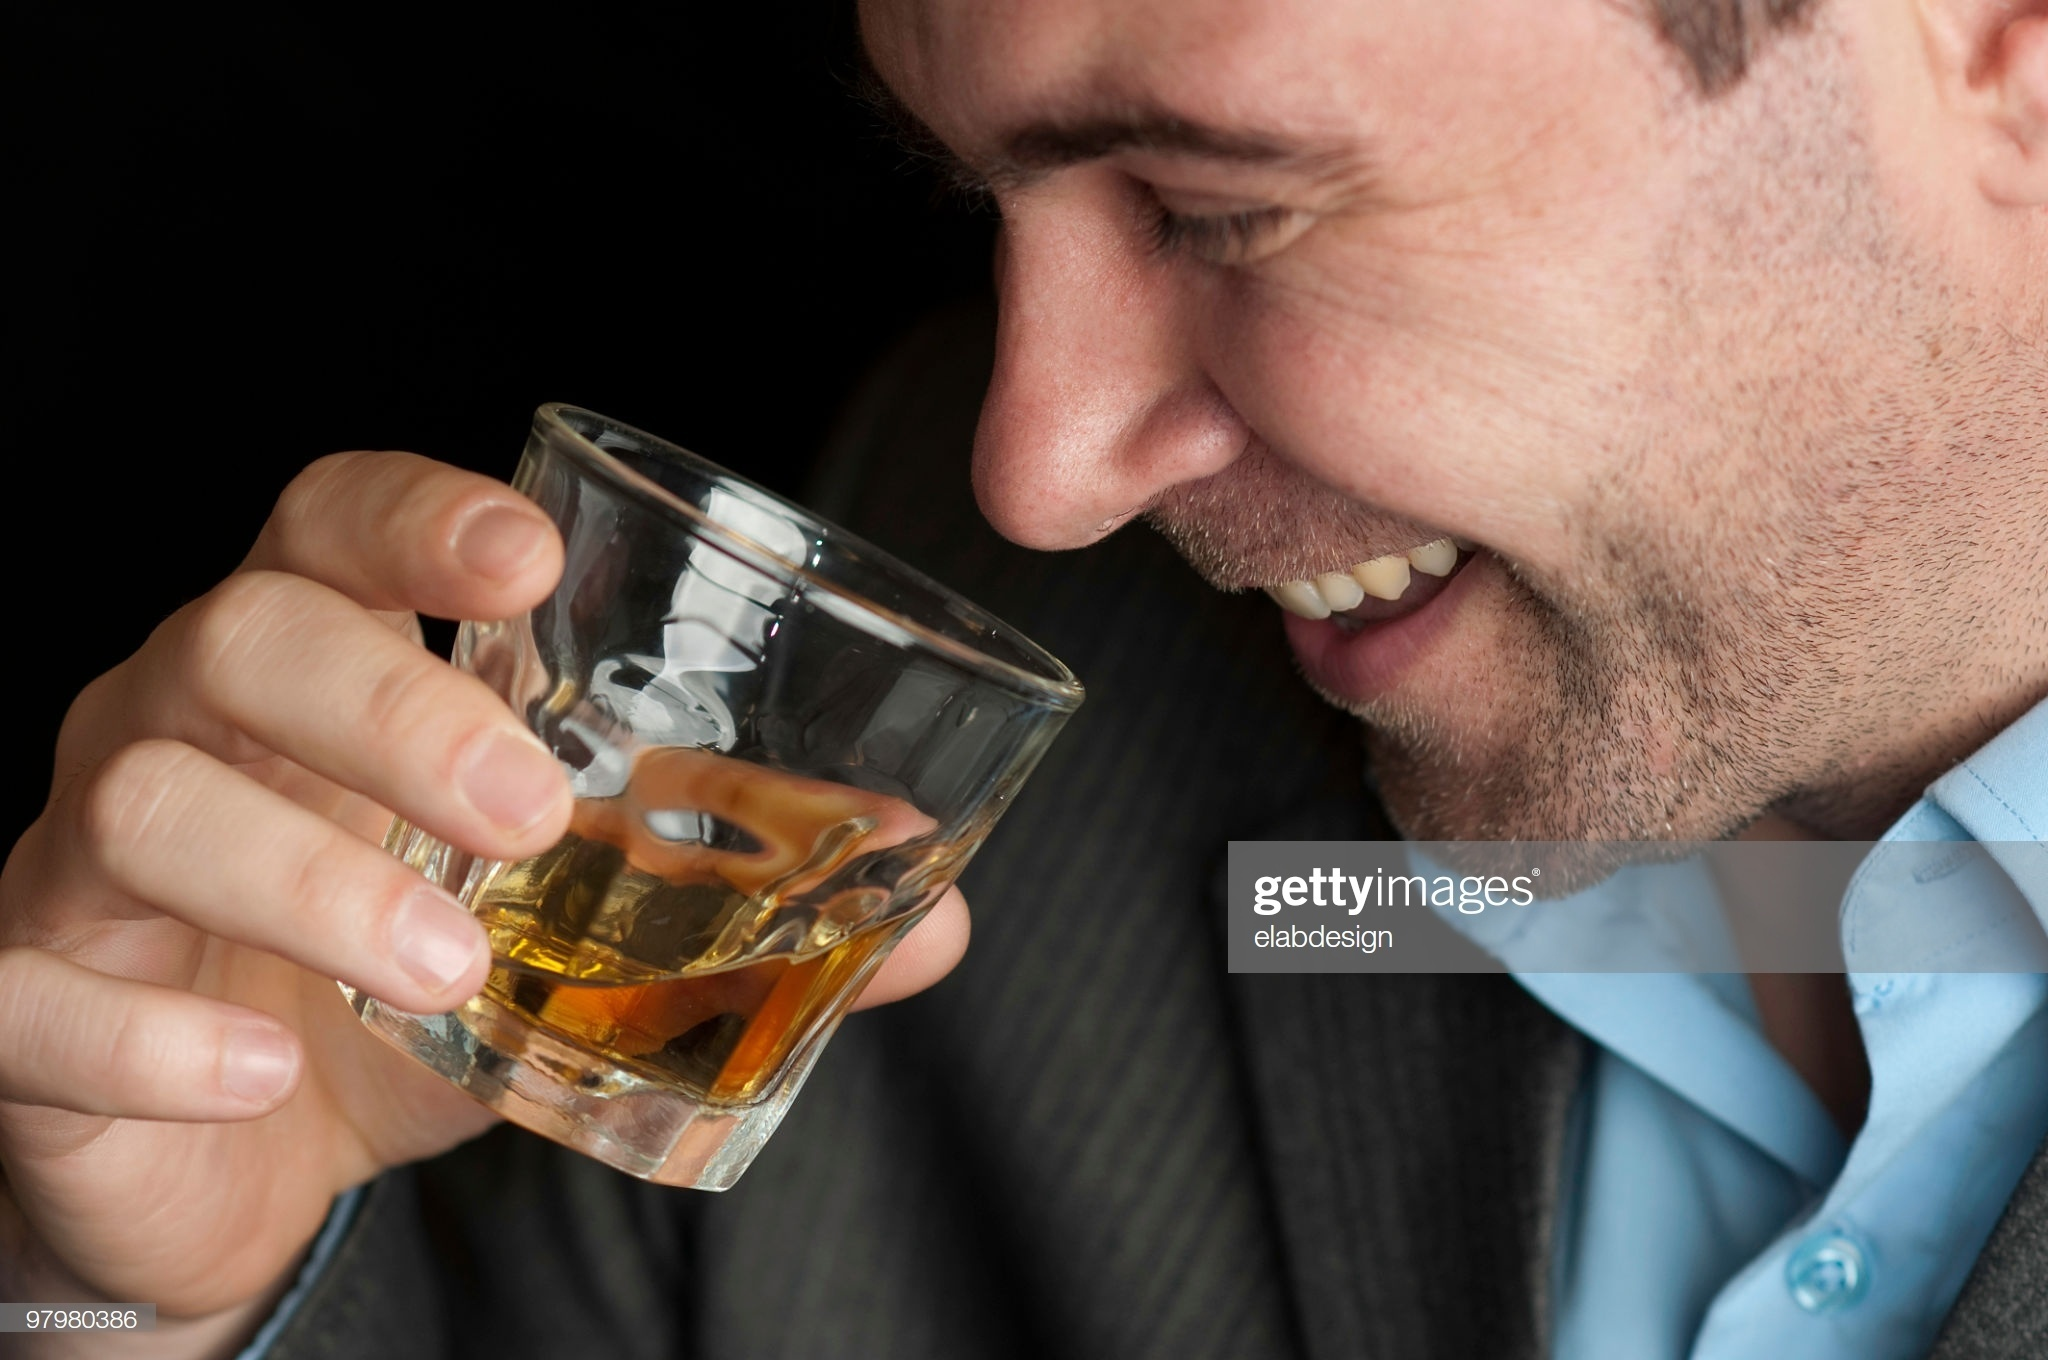whiskey: (402, 448, 1007, 1184)
